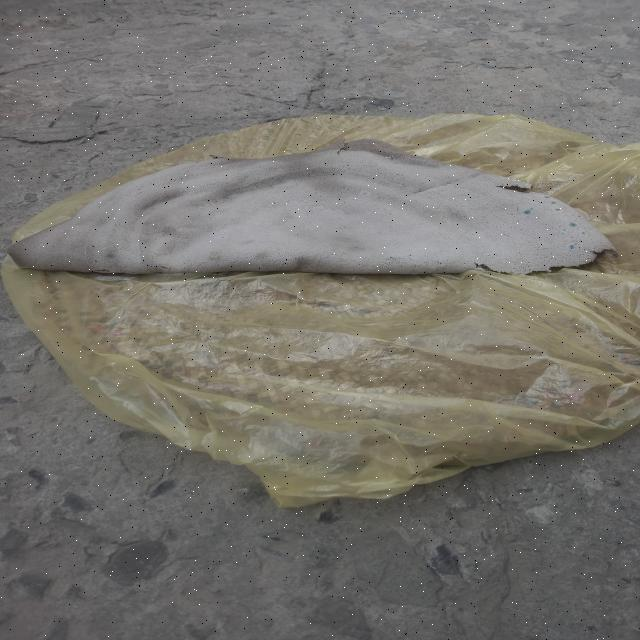injera_mold: (568, 222, 578, 228), (568, 244, 576, 250), (361, 191, 368, 197), (524, 210, 532, 215), (581, 231, 586, 235), (219, 237, 225, 240), (577, 215, 582, 218), (555, 208, 560, 211), (74, 228, 80, 230), (560, 232, 564, 235), (551, 202, 556, 204), (544, 196, 549, 198), (530, 207, 533, 210), (385, 156, 389, 158), (388, 156, 392, 158), (62, 230, 64, 232), (76, 226, 78, 227), (71, 229, 73, 230), (79, 231, 81, 232), (392, 162, 393, 164), (72, 226, 73, 227), (392, 156, 393, 157), (80, 230, 81, 230), (379, 156, 381, 156), (385, 160, 386, 160), (381, 158, 382, 158), (393, 158, 394, 158)
